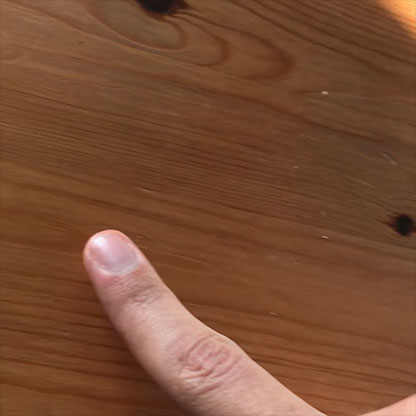fingertip: (75, 223, 154, 284)
